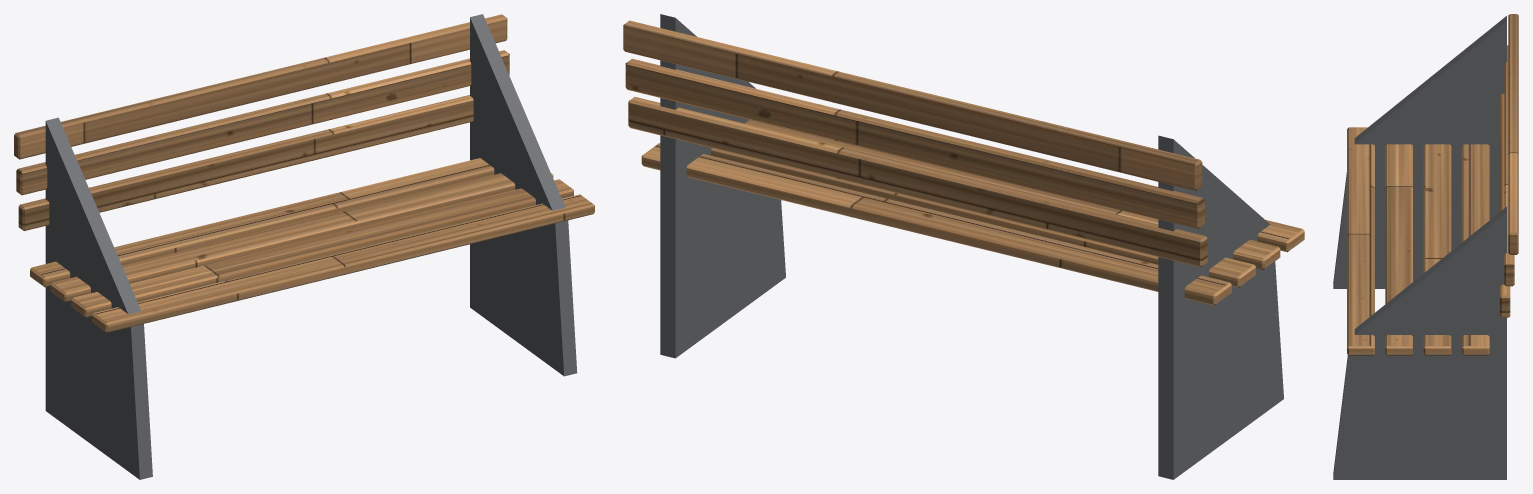
The model's file is garden_bench.glb.
3 views of the same model, side by side, from view 1: azimuth 30°, elevation 25°; view 2: azimuth 150°, elevation 25°; view 3: azimuth 270°, elevation 25° (orthographic). The views are drawn at different scales.
Visible parts, largest first — view 1: garden_bench_wood, garden_bench_iron; view 2: garden_bench_wood, garden_bench_iron; view 3: garden_bench_iron, garden_bench_wood.
Boxes of the visible parts, <box> form: garden_bench_wood: <box>14,14,594,332</box>; garden_bench_iron: <box>45,14,577,479</box>; garden_bench_wood: <box>623,20,1304,305</box>; garden_bench_iron: <box>660,14,1283,479</box>; garden_bench_iron: <box>1333,16,1506,479</box>; garden_bench_wood: <box>1347,14,1518,355</box>.
Size of the model in its own units: 1.5 by 0.85 by 0.534.
Materials: 2 (1 with a texture image).
